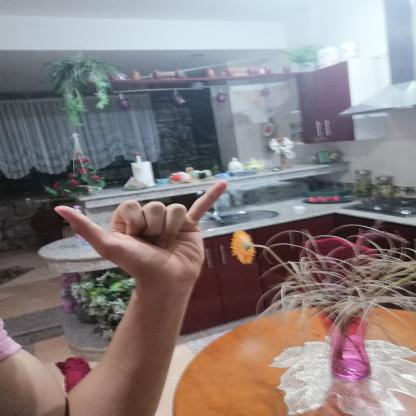YA: (34, 171, 249, 293)
